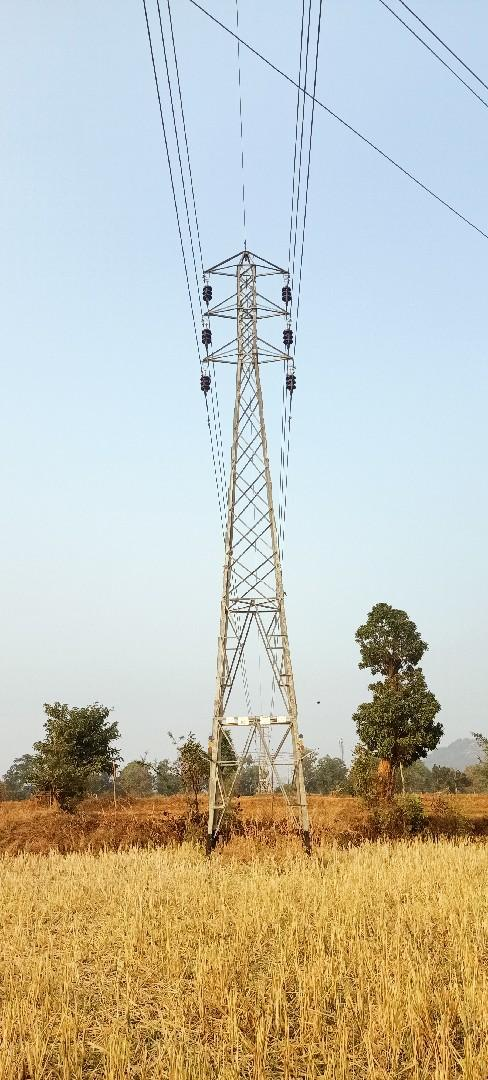GSM Antenna: (179, 245, 323, 810)
